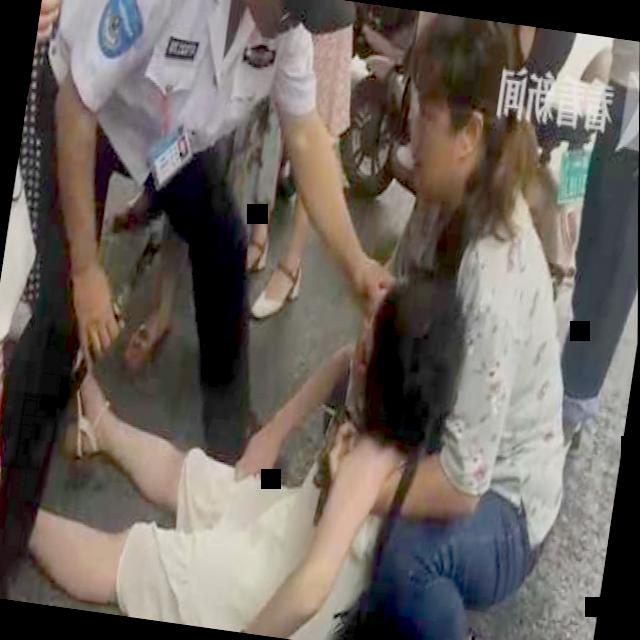Fall-Detected: (23, 197, 473, 640)
